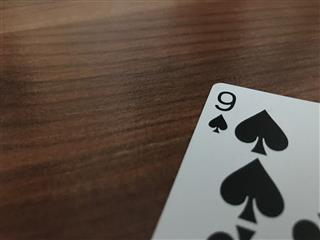NineOfSpades: (148, 80, 320, 240)
